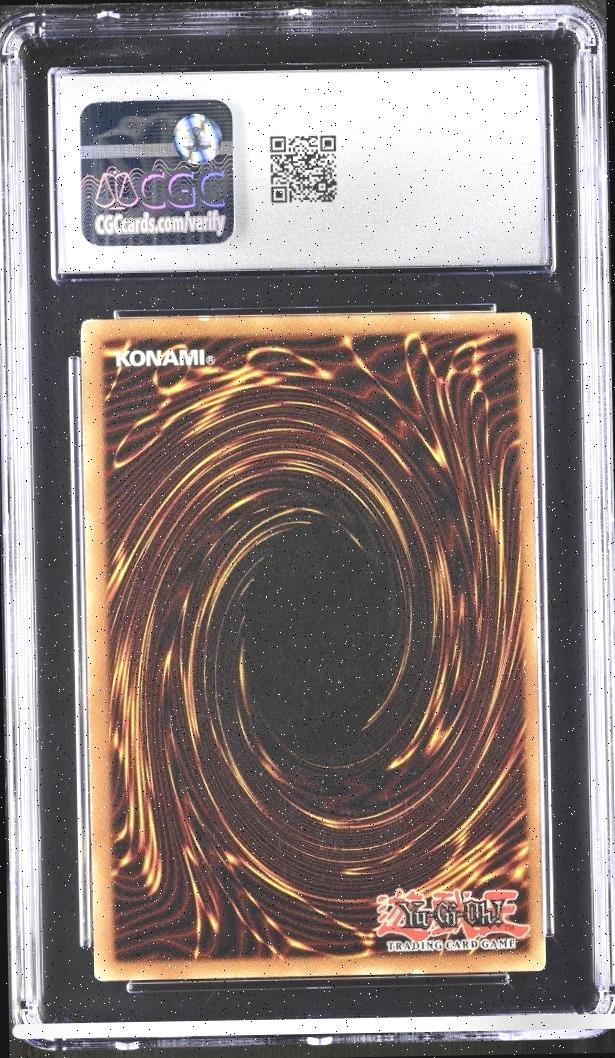card-2UtV: (80, 312, 546, 982)
